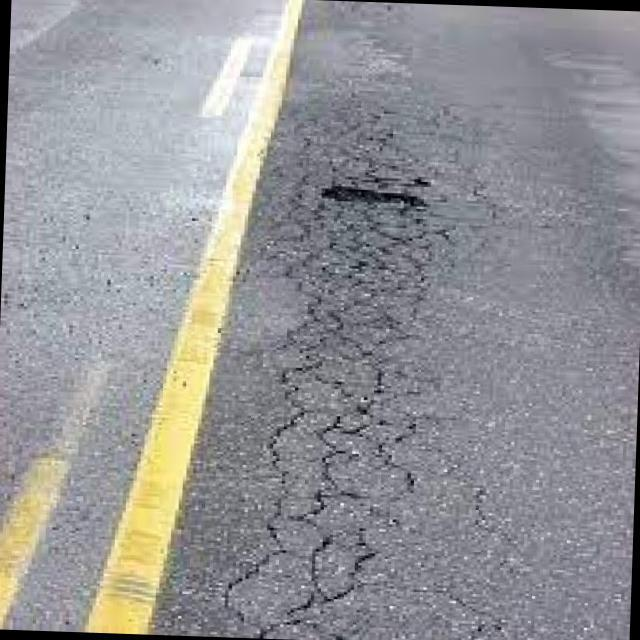Pothole: (316, 176, 434, 278)
